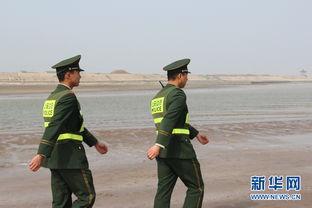up: (26, 47, 112, 207), (136, 55, 212, 208)
